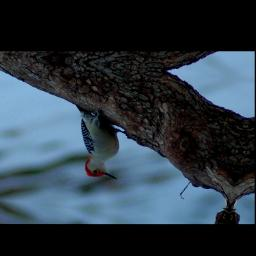Woodpecker: (61, 104, 133, 181)
